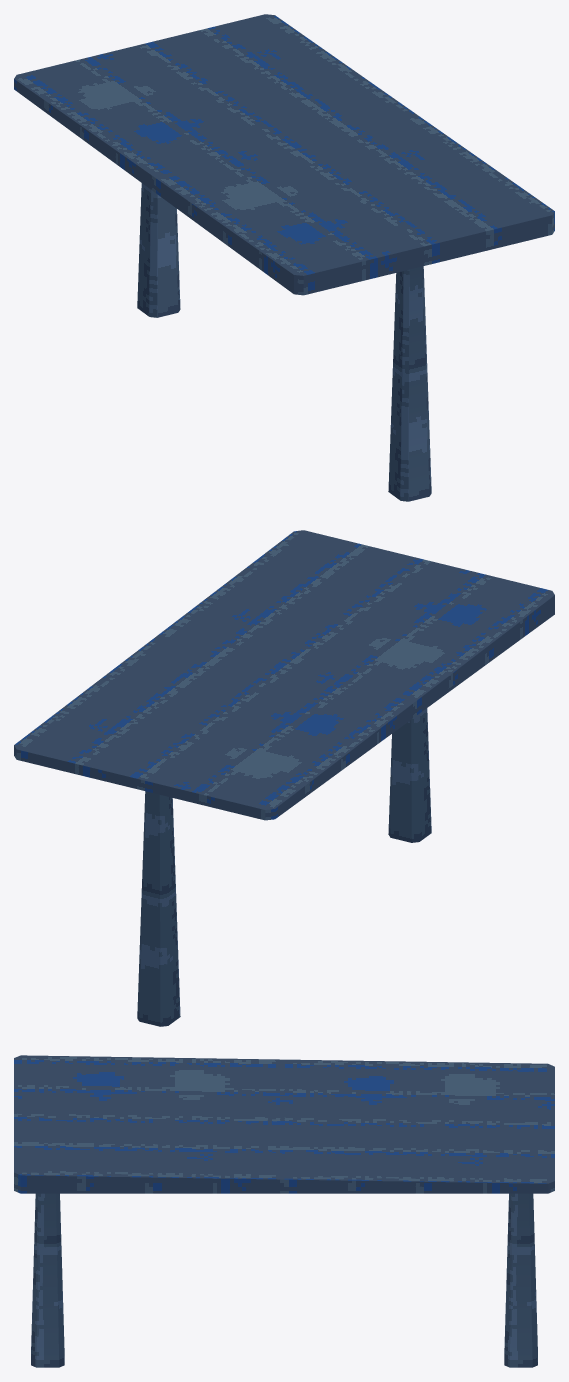
Rendered from cyroom.canopy.glb.
The picture shows the model from 3 angles, top to bottom: view 1: azimuth 30°, elevation 25°; view 2: azimuth 150°, elevation 25°; view 3: azimuth 270°, elevation 25°; orthographic projection. The views are drawn at different scales.
Visible parts, largest first — view 1: kit_body; view 2: kit_body; view 3: kit_body.
Boxes of the visible parts, x1,y1,x2,y2 form: kit_body: (14,14,554,501); kit_body: (14,530,554,1026); kit_body: (14,1055,554,1367).
Bounding box in the file's own units: 4.2 × 4 × 8.
4 materials, 4 textured.
